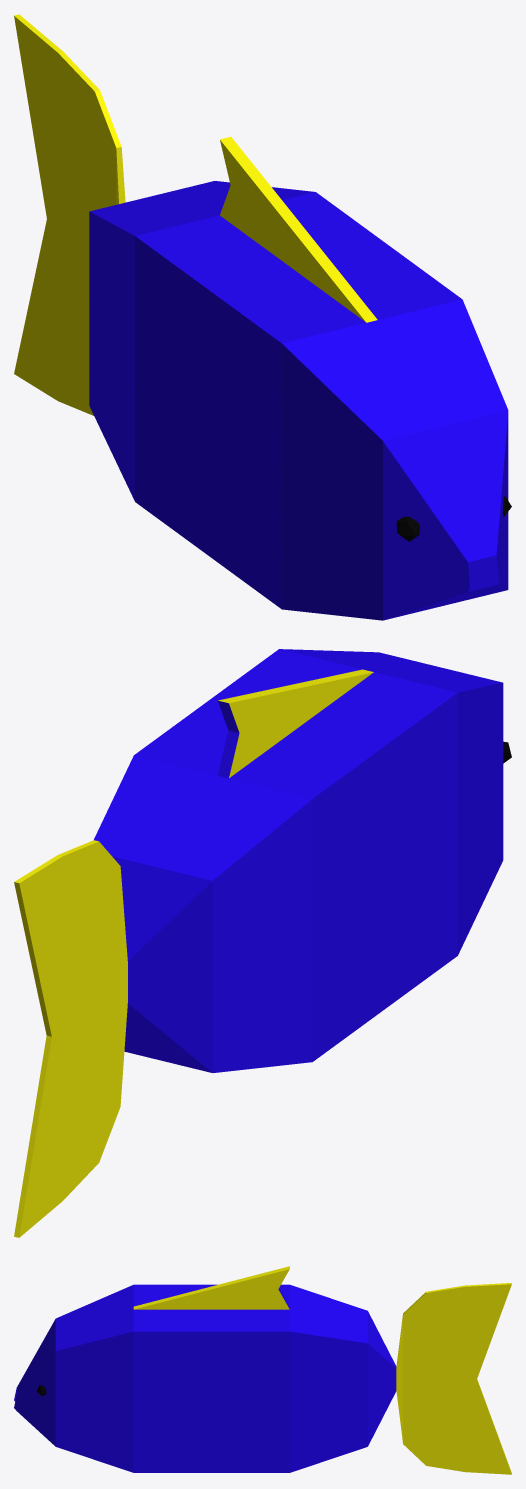
File: FishBlueYellowEyes.fbx
The picture shows the model from 3 angles, top to bottom: view 1: azimuth 30°, elevation 25°; view 2: azimuth 150°, elevation 25°; view 3: azimuth 270°, elevation 25°; orthographic projection. The views are drawn at different scales.
Parts seen in each view (by area): view 1: fish; view 2: fish; view 3: fish.
Part boxes in pixels (x1,y1,x2,y2): fish: (14, 14, 508, 620); fish: (14, 649, 503, 1237); fish: (14, 1266, 511, 1474).
Bounding box in the file's own units: 142 × 292 × 638.
